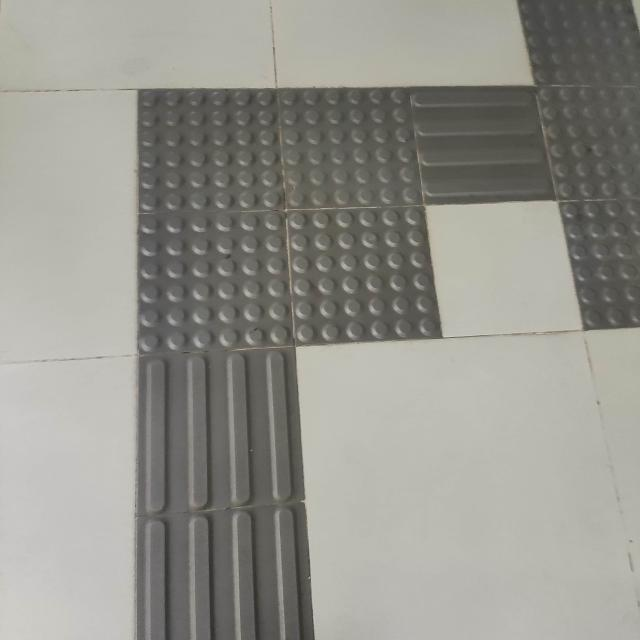kanan: (100, 72, 559, 391)
